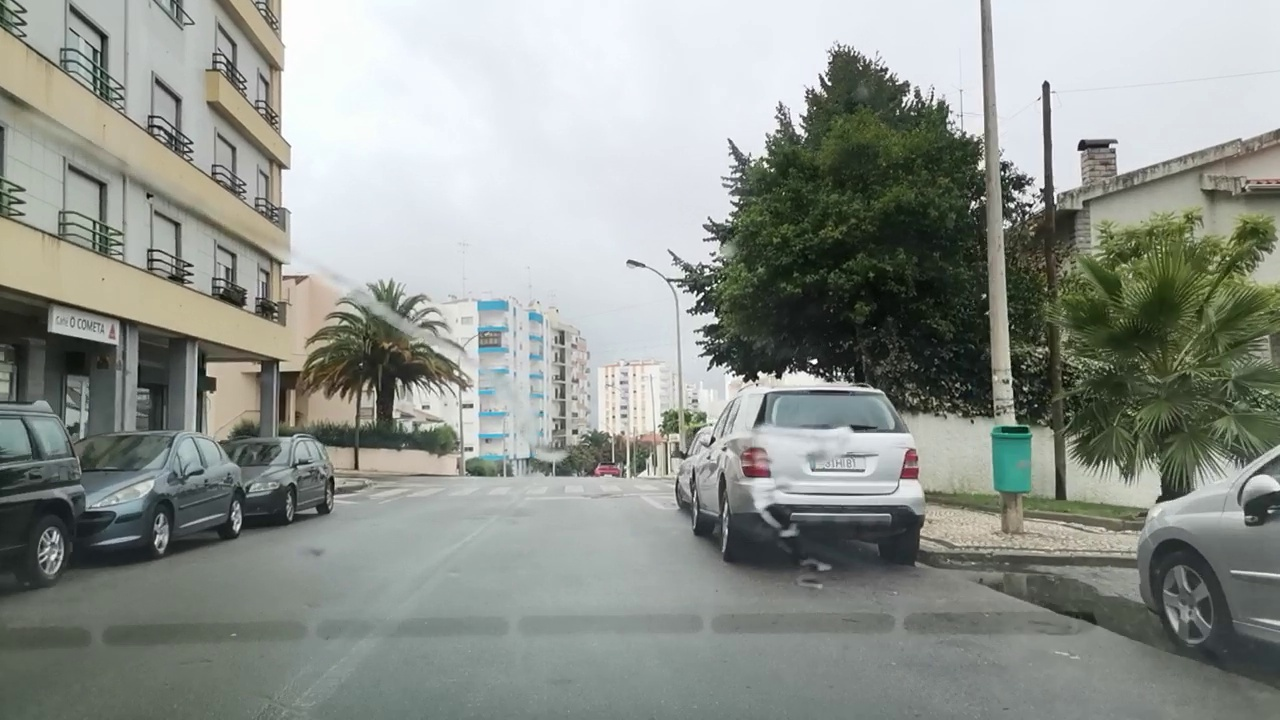Stairs: (363, 480, 667, 501)
